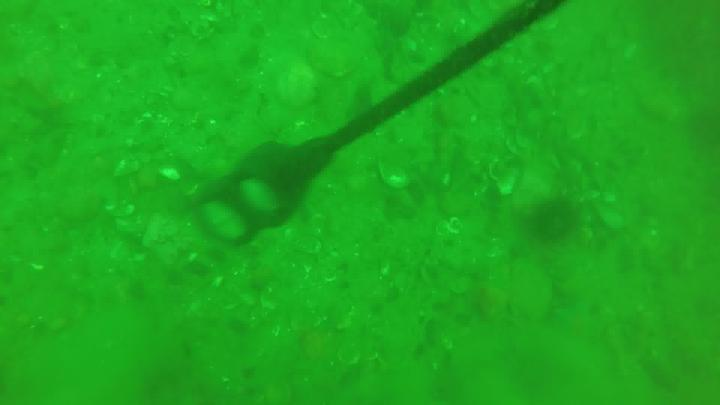echinus: (531, 200, 580, 244)
scallop: (311, 38, 368, 81), (277, 63, 322, 112), (378, 162, 416, 192), (491, 161, 523, 196), (105, 197, 139, 221), (113, 155, 142, 180)
